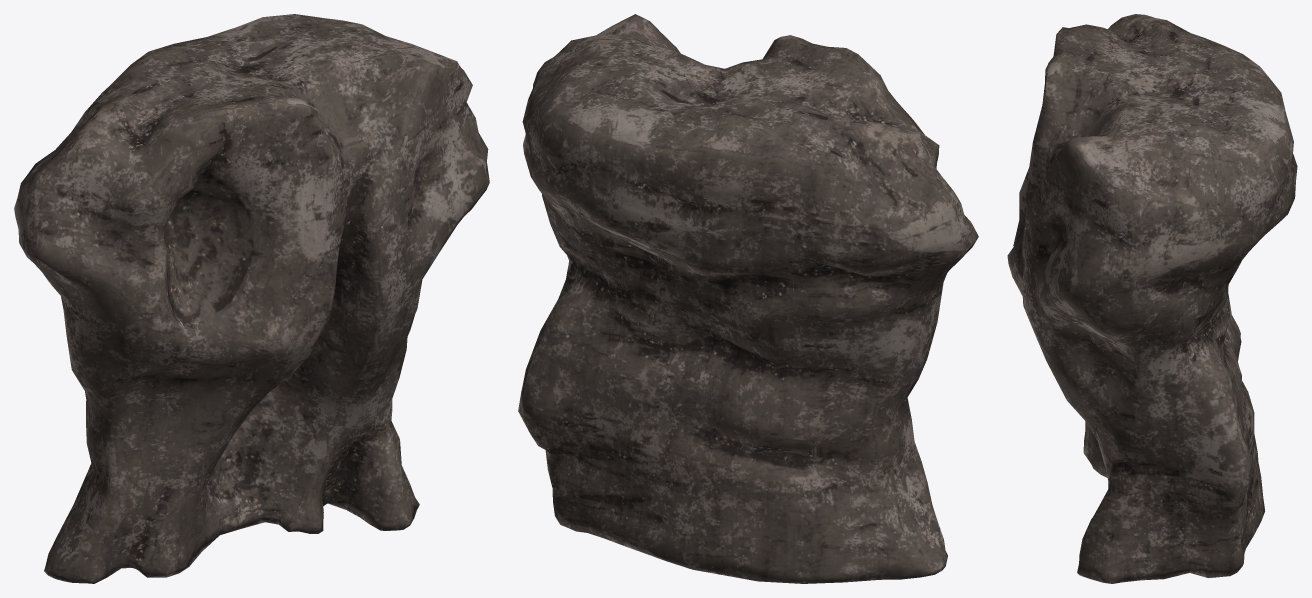
Rendered from cave_form03.DAE.
3 renders of one model, left to right at view 1: azimuth 30°, elevation 25°; view 2: azimuth 150°, elevation 25°; view 3: azimuth 270°, elevation 25°, orthographic. The views are drawn at different scales.
Parts seen in each view (by area): view 1: cave_form03; view 2: cave_form03; view 3: cave_form03.
Part boxes in pixels (bbox=[...]): cave_form03: bbox=[14, 14, 489, 583]; cave_form03: bbox=[518, 14, 978, 583]; cave_form03: bbox=[1007, 14, 1297, 583].
Size of what is drawn, in the model's own units: 2.51 by 2.57 by 1.47.
